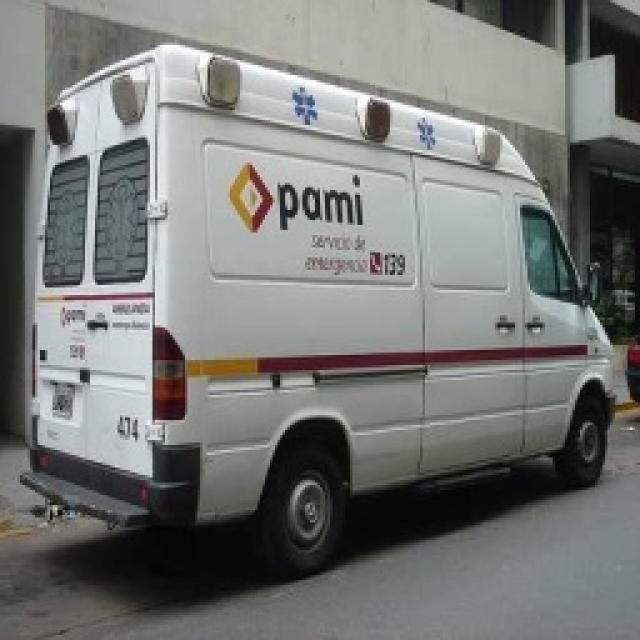emergency-vehicle: (18, 55, 623, 569)
